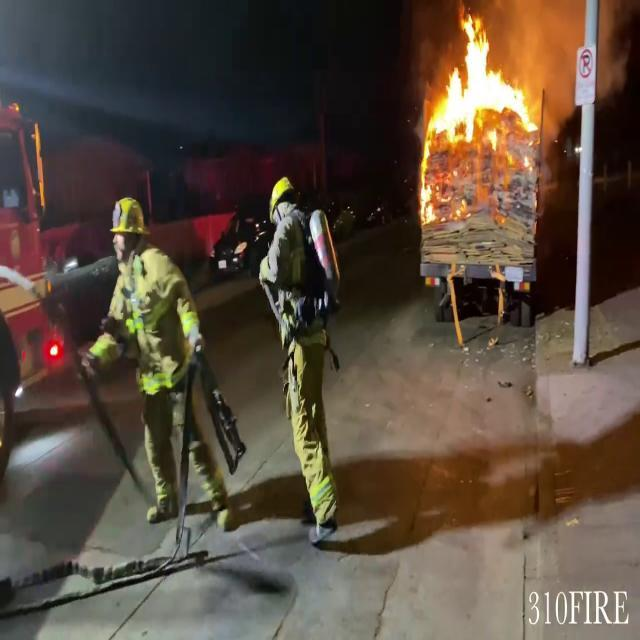Fire: (413, 6, 543, 219)
